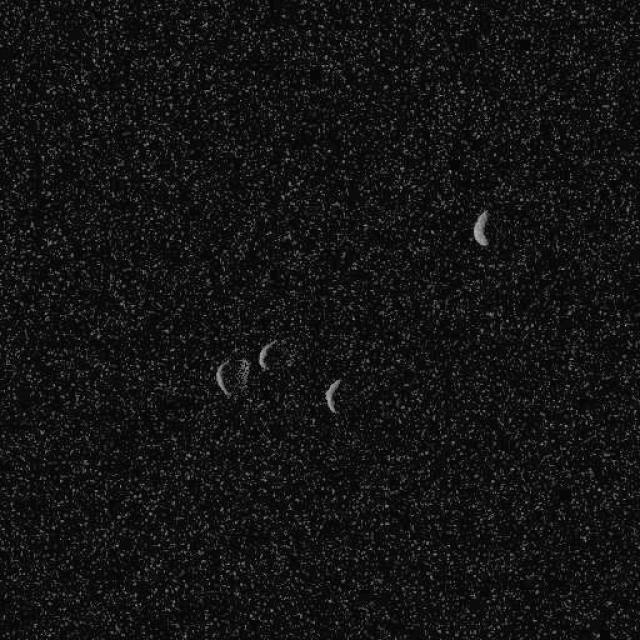D2: (214, 355, 250, 397), (256, 338, 278, 372), (471, 209, 490, 246), (322, 378, 342, 413)
